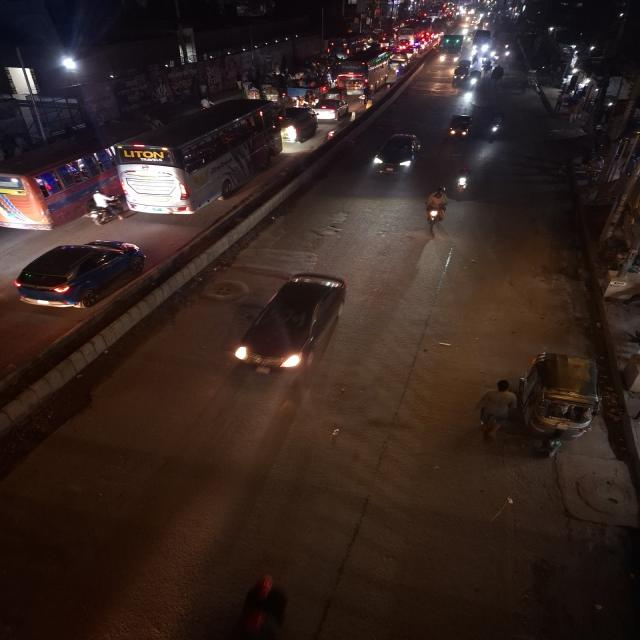bus: (115, 96, 276, 218), (0, 137, 119, 228), (337, 49, 391, 83), (396, 22, 433, 54)
car: (232, 268, 356, 378), (9, 236, 150, 312), (369, 130, 425, 180), (276, 106, 320, 144), (312, 96, 352, 122)
cng: (517, 348, 604, 462), (444, 112, 476, 144), (450, 63, 471, 87)
motorcycle: (81, 189, 129, 227), (422, 185, 450, 235), (451, 161, 474, 197), (485, 110, 507, 146), (357, 85, 375, 106)
pedestrian: (484, 378, 513, 453), (491, 64, 506, 84)
truck: (437, 33, 465, 65)
